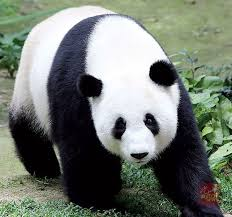panda: (7, 1, 223, 217)
